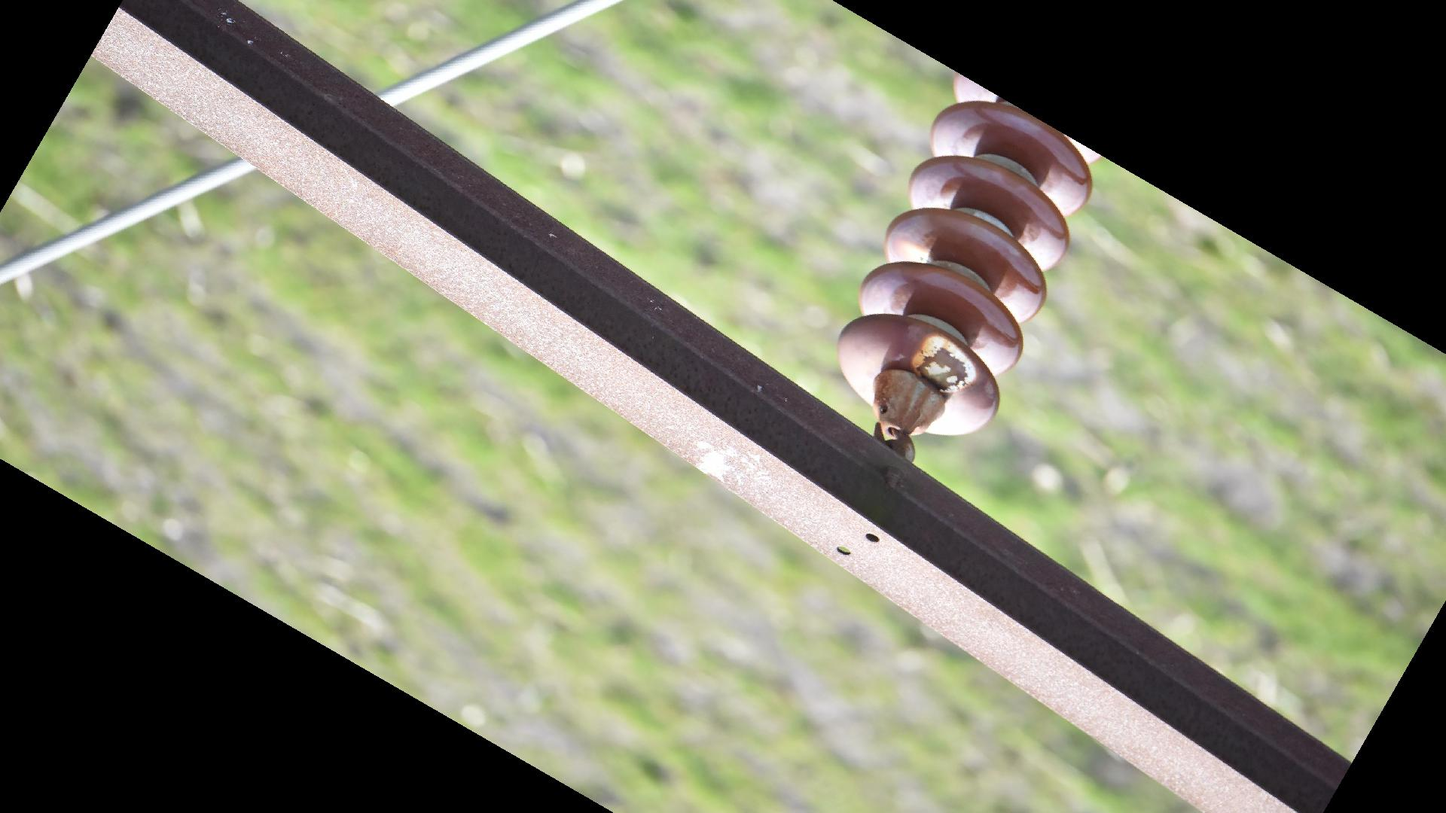insulator: (831, 64, 1106, 445)
insulator_flashover: (910, 332, 979, 396)
